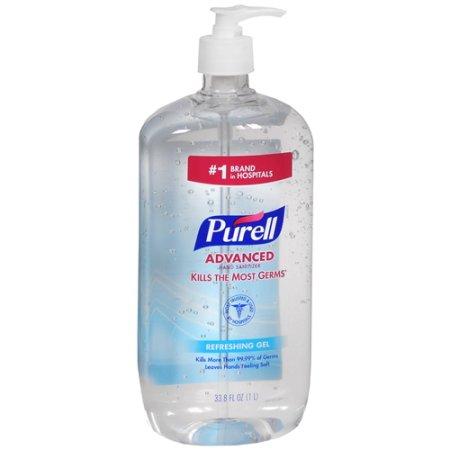Sanitizer: (134, 2, 328, 448)
